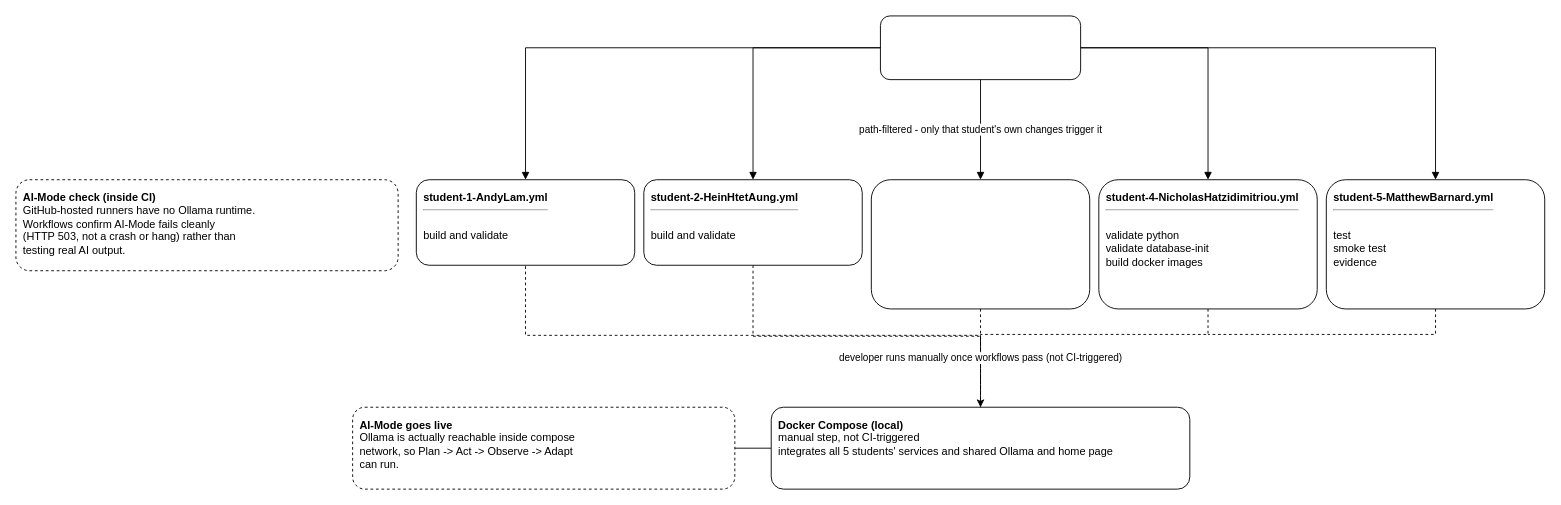
Image size: 1561x505. Some labels were removed from this diagram. The shapes that lost their labels are listed below. From the top down, each one's box as (x1, y1, x2, y2) in pixels, then its label:
(880, 15, 1081, 80): GitHub Repository shared, all 5 students push here
(870, 179, 1090, 309): student-3-TristanLim.yml build images smoke test evidence pack
